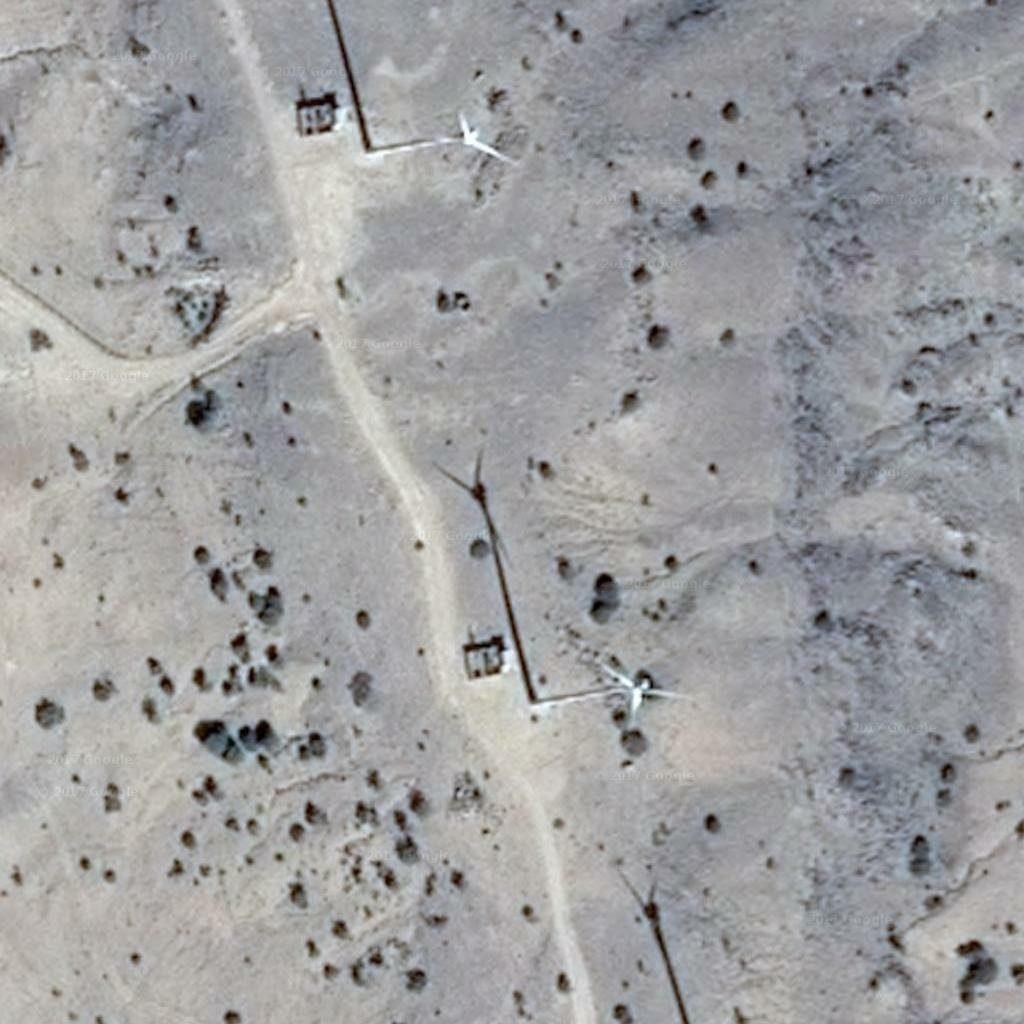Windmill: (426, 451, 544, 698)
